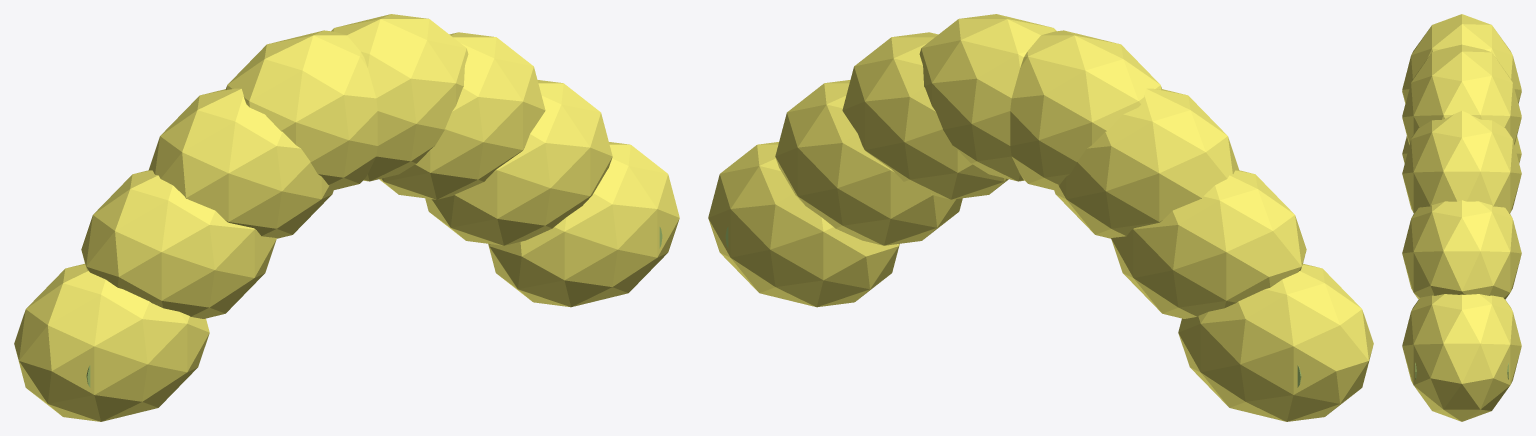
Rendered from treasure_banana.glb.
3 renders of one model, left to right at view 1: azimuth 30°, elevation 25°; view 2: azimuth 150°, elevation 25°; view 3: azimuth 270°, elevation 25°, orthographic. The views are drawn at different scales.
Visible parts, largest first — view 1: Banana_0, Banana_1, Banana_7, Banana_2, Banana_6, Banana_3, Banana_5, Banana_4; view 2: Banana_0, Banana_1, Banana_7, Banana_2, Banana_6, Banana_3, Banana_5, Banana_4; view 3: Banana_7, Banana_6, Banana_5, Banana_4, Banana_3, Banana_0.
Part boxes in pixels (bbox=[...]): Banana_0: bbox=[14, 263, 209, 421]; Banana_1: bbox=[81, 170, 276, 318]; Banana_7: bbox=[488, 142, 679, 307]; Banana_2: bbox=[149, 88, 333, 238]; Banana_6: bbox=[425, 80, 612, 245]; Banana_3: bbox=[225, 30, 377, 190]; Banana_5: bbox=[379, 32, 545, 199]; Banana_4: bbox=[331, 14, 468, 181]; Banana_0: bbox=[1178, 263, 1373, 421]; Banana_1: bbox=[1111, 170, 1306, 318]; Banana_7: bbox=[708, 142, 899, 307]; Banana_2: bbox=[1054, 88, 1238, 238]; Banana_6: bbox=[775, 80, 962, 245]; Banana_3: bbox=[1010, 30, 1162, 190]; Banana_5: bbox=[842, 32, 1008, 199]; Banana_4: bbox=[919, 14, 1056, 181]; Banana_7: bbox=[1402, 294, 1521, 421]; Banana_6: bbox=[1402, 200, 1521, 299]; Banana_5: bbox=[1402, 111, 1521, 213]; Banana_4: bbox=[1402, 44, 1521, 144]; Banana_3: bbox=[1402, 14, 1521, 102]; Banana_0: bbox=[1402, 136, 1521, 163].
Bounding box in the file's own units: 2.37 × 1.15 × 0.448.
